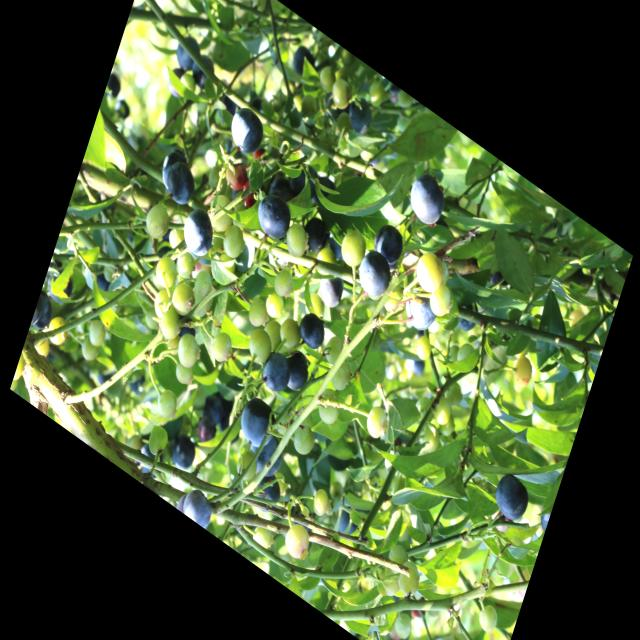blueberry: (232, 387, 284, 461), (488, 459, 537, 532), (402, 164, 450, 237), (249, 183, 297, 253), (354, 238, 399, 306), (244, 427, 287, 490), (178, 202, 220, 264), (223, 100, 266, 160), (274, 342, 314, 404), (399, 282, 439, 344), (180, 478, 220, 532), (257, 344, 295, 399), (372, 219, 410, 271), (202, 386, 238, 439), (294, 308, 330, 357), (163, 429, 200, 476), (314, 262, 350, 310), (164, 162, 194, 207)
blueberry-halfripe: (224, 156, 252, 197)
blueberry-unripe: (411, 244, 449, 301), (201, 185, 239, 239), (281, 516, 314, 566), (141, 198, 174, 247), (337, 225, 369, 274), (219, 216, 251, 264), (394, 554, 424, 604), (282, 216, 312, 264), (243, 324, 274, 370), (314, 384, 344, 431), (174, 328, 205, 373), (150, 249, 180, 295), (168, 276, 198, 322), (186, 280, 216, 325), (275, 312, 305, 356), (312, 239, 341, 283), (44, 311, 74, 353), (474, 596, 502, 640), (364, 399, 391, 444), (145, 418, 173, 461), (428, 279, 456, 322), (154, 382, 182, 424), (290, 419, 318, 461), (508, 350, 536, 392), (157, 304, 184, 346), (209, 325, 236, 366), (384, 538, 411, 578), (315, 58, 341, 98), (82, 314, 109, 352), (329, 356, 354, 397), (328, 74, 354, 113), (430, 392, 456, 431), (322, 330, 346, 372), (270, 264, 296, 302), (150, 283, 174, 324), (375, 568, 402, 604), (246, 294, 271, 332), (390, 605, 417, 640), (172, 354, 198, 390), (260, 316, 285, 353), (191, 264, 216, 301), (308, 483, 332, 521), (173, 245, 197, 282), (302, 290, 328, 324), (251, 519, 276, 554), (263, 288, 287, 324), (454, 338, 476, 374), (412, 332, 434, 366), (166, 220, 188, 253), (78, 333, 100, 366), (32, 330, 53, 362)
